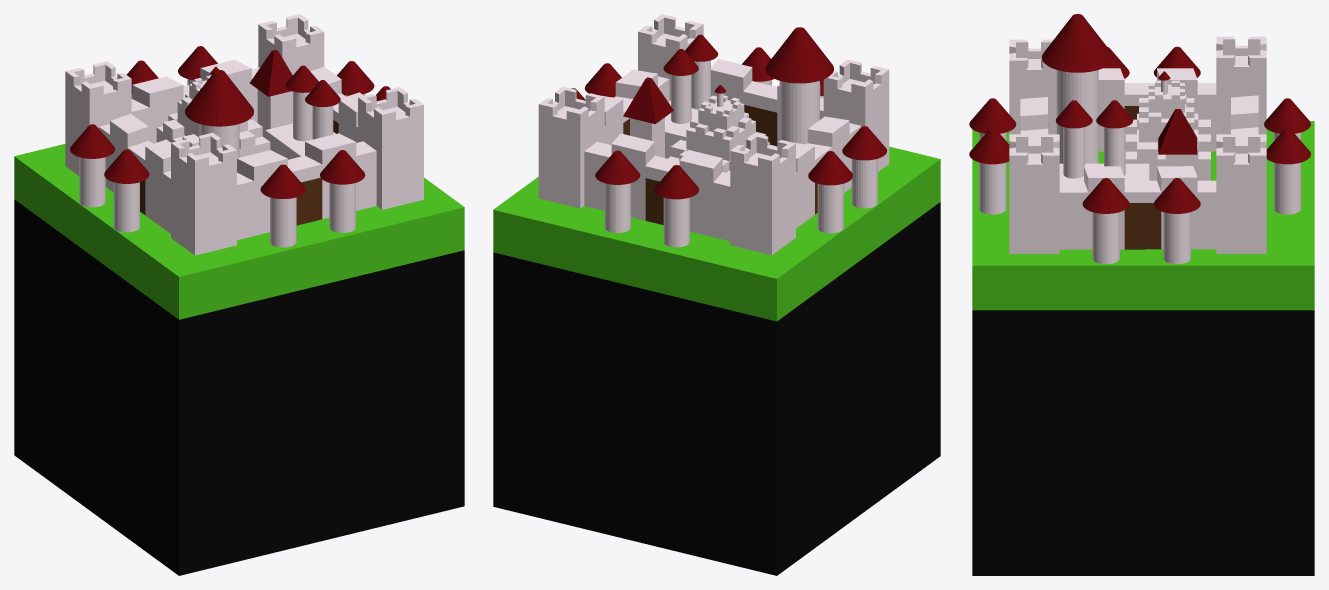
The model's file is Tile-Castle.glb.
3 views of the same model, side by side, from view 1: azimuth 30°, elevation 25°; view 2: azimuth 150°, elevation 25°; view 3: azimuth 270°, elevation 25° (orthographic). The views are drawn at different scales.
Parts seen in each view (by area): view 1: Cube; view 2: Cube; view 3: Cube.
Boxes of the visible parts, x1,y1,x2,y2 form: Cube: (14,14,464,575); Cube: (493,14,940,575); Cube: (969,14,1314,575).
Bounding box in the file's own units: 2.09 × 2.97 × 2.02.
